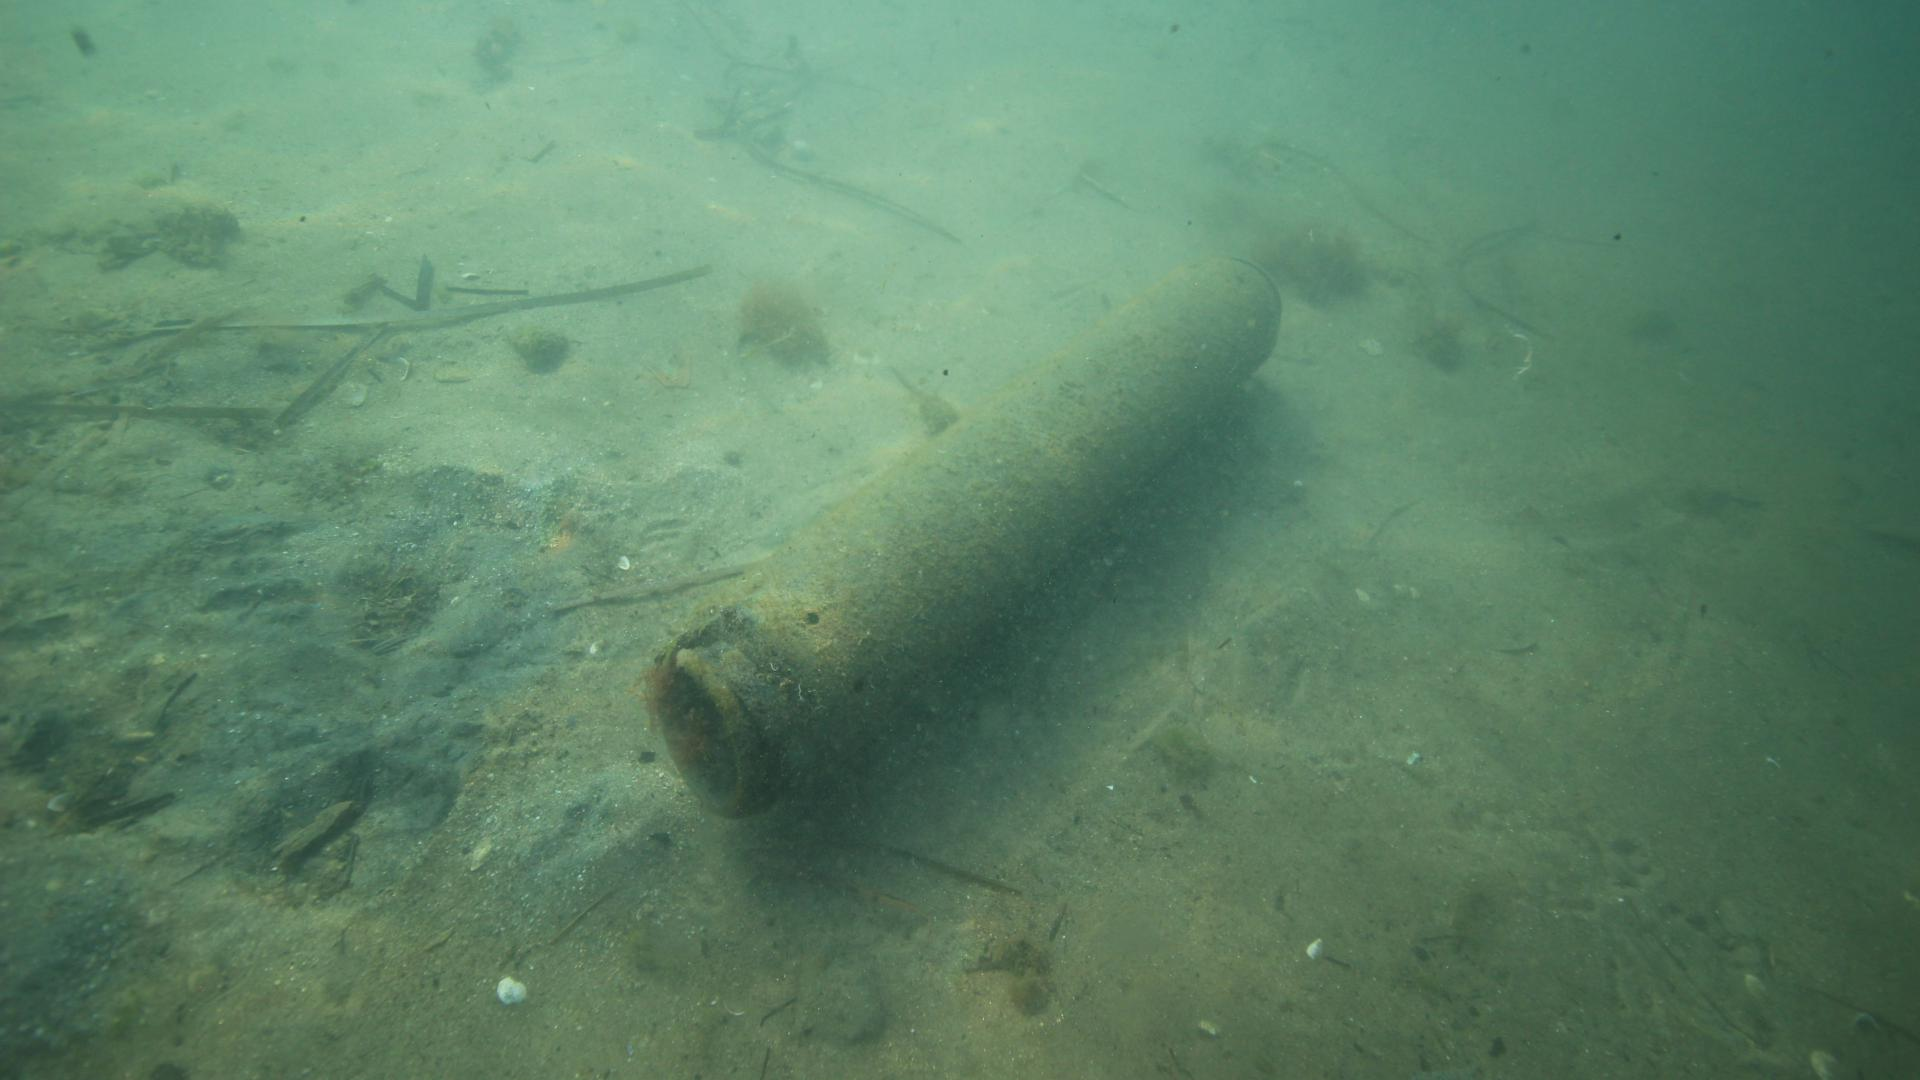eel fish trap: (647, 247, 1283, 818)
